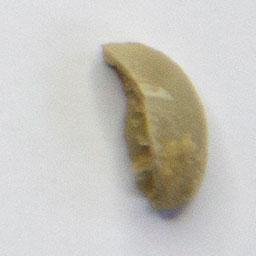defect: (97, 34, 217, 220)
